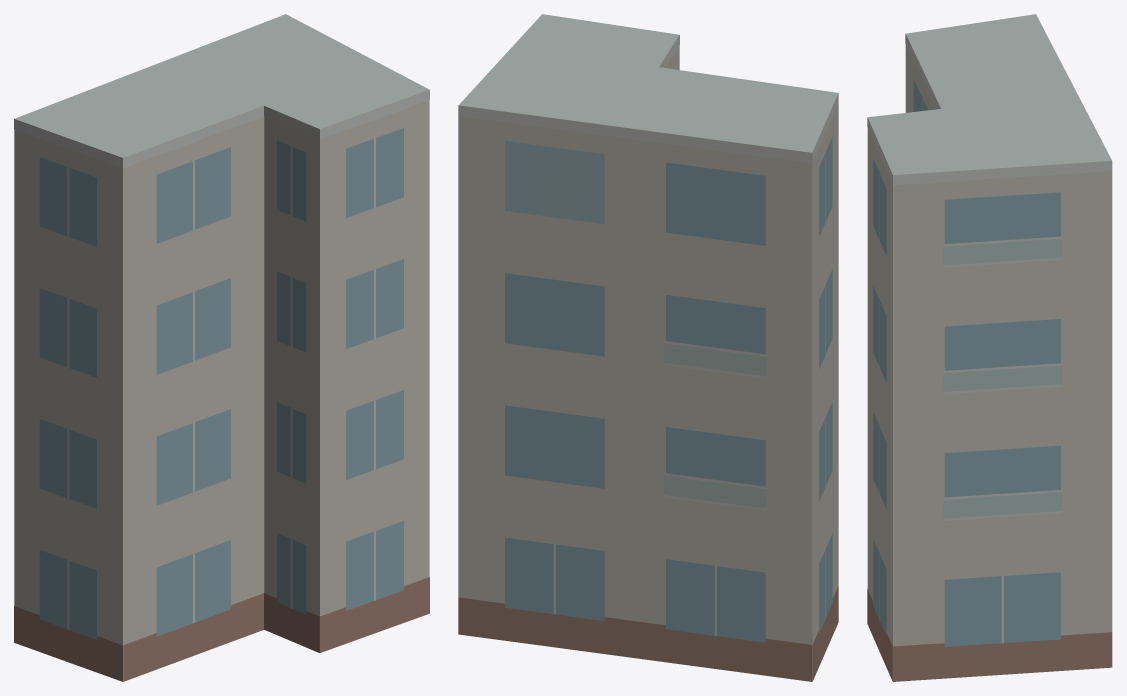
Rendered from survey-upis-32504540.glb.
The picture shows the model from 3 angles, left to right: view 1: azimuth 30°, elevation 25°; view 2: azimuth 150°, elevation 25°; view 3: azimuth 270°, elevation 25°; orthographic projection. The views are drawn at different scales.
Parts seen in each view (by area): view 1: survey-upis-32504540.tmp; view 2: survey-upis-32504540.tmp; view 3: survey-upis-32504540.tmp.
Boxes of the visible parts, box(x1,y1,x2,y2) form: survey-upis-32504540.tmp: box(14, 14, 429, 681); survey-upis-32504540.tmp: box(458, 14, 838, 681); survey-upis-32504540.tmp: box(867, 14, 1112, 681).
Size of the model in its own units: 8.33 by 12.2 by 5.35.
